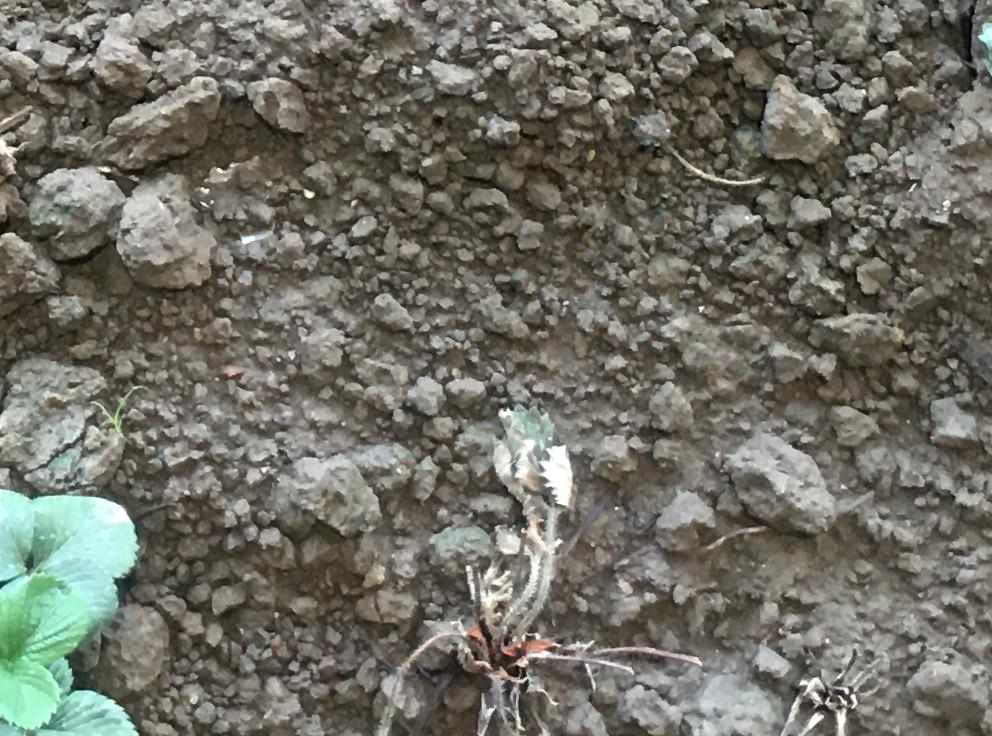block: (1, 352, 123, 506), (115, 170, 214, 294), (733, 425, 839, 538), (19, 160, 121, 262), (761, 67, 837, 168)
